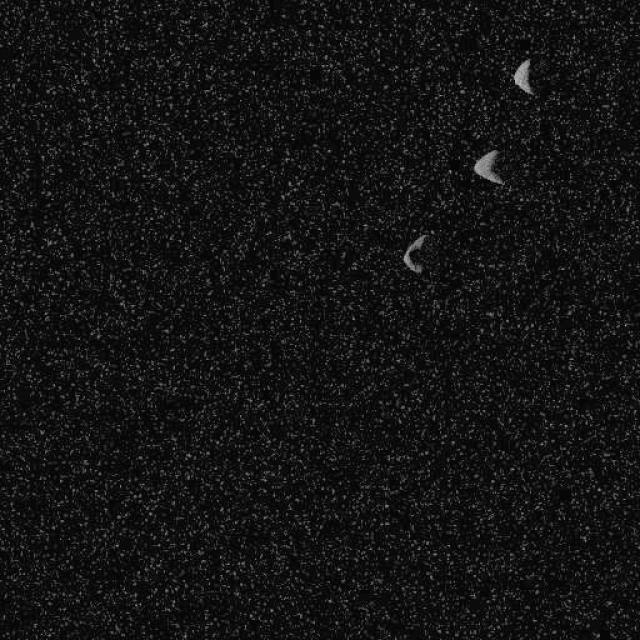D2: (471, 148, 505, 186), (402, 234, 428, 274), (511, 56, 535, 95)
